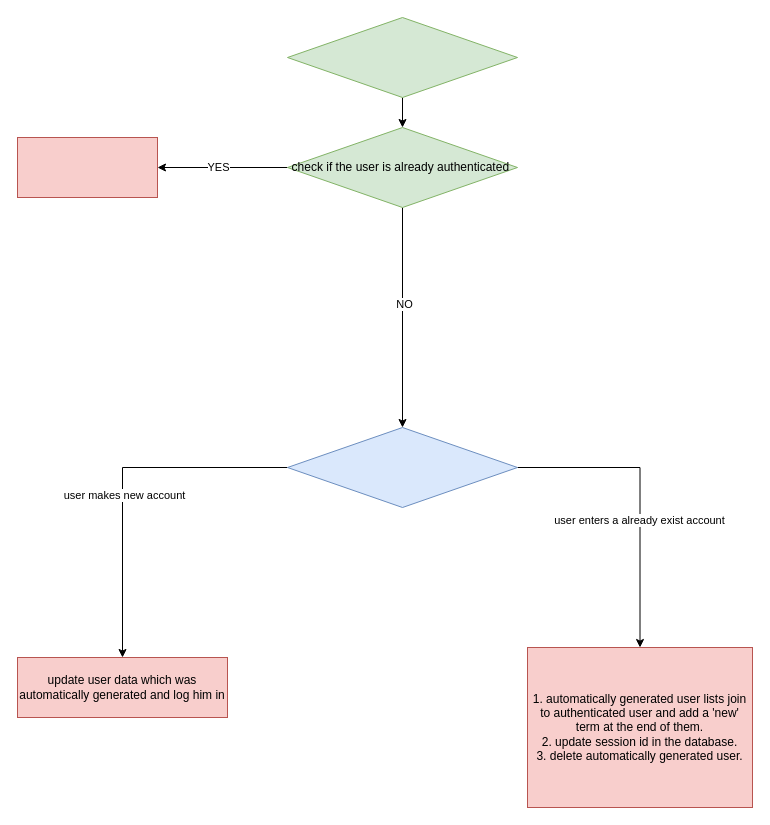
Image size: 770x825. Some labels were removed from this diagram. The centre of each missing label's shape, as x and y in pixels:
continue where he left: point 87,167
specify a unique session id and make a new user based on that: point 402,467
